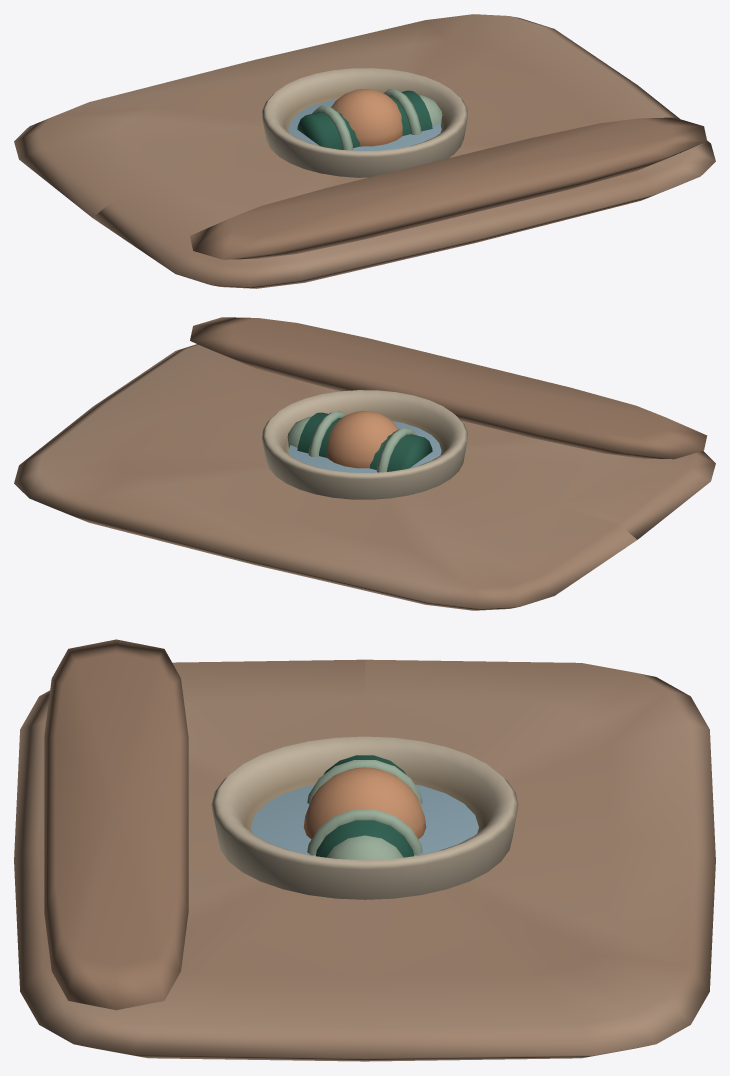
The model's file is care_props.glb.
The picture shows the model from 3 angles, top to bottom: view 1: azimuth 30°, elevation 25°; view 2: azimuth 150°, elevation 25°; view 3: azimuth 270°, elevation 25°; orthographic projection. The views are drawn at different scales.
Visible parts, largest first — view 1: blanket, bowl, toy_rolling, ball, water; view 2: blanket, bowl, toy_rolling, ball, water; view 3: blanket, bowl, toy_rolling, water, ball.
Part boxes in pixels (x1=…): blanket: x1=14, y1=14, x2=715, y2=288; bowl: x1=262, y1=68, x2=467, y2=177; toy_rolling: x1=297, y1=89, x2=442, y2=150; ball: x1=331, y1=89, x2=402, y2=146; water: x1=288, y1=99, x2=441, y2=150; blanket: x1=14, y1=317, x2=715, y2=610; bowl: x1=262, y1=390, x2=467, y2=499; toy_rolling: x1=287, y1=411, x2=432, y2=472; ball: x1=327, y1=410, x2=398, y2=468; water: x1=288, y1=421, x2=441, y2=472; blanket: x1=14, y1=639, x2=715, y2=1061; bowl: x1=211, y1=736, x2=518, y2=899; toy_rolling: x1=307, y1=755, x2=422, y2=859; water: x1=251, y1=784, x2=478, y2=856; ball: x1=303, y1=767, x2=426, y2=839.
Size of the model in its own units: 0.64 by 0.0894 by 0.48.
